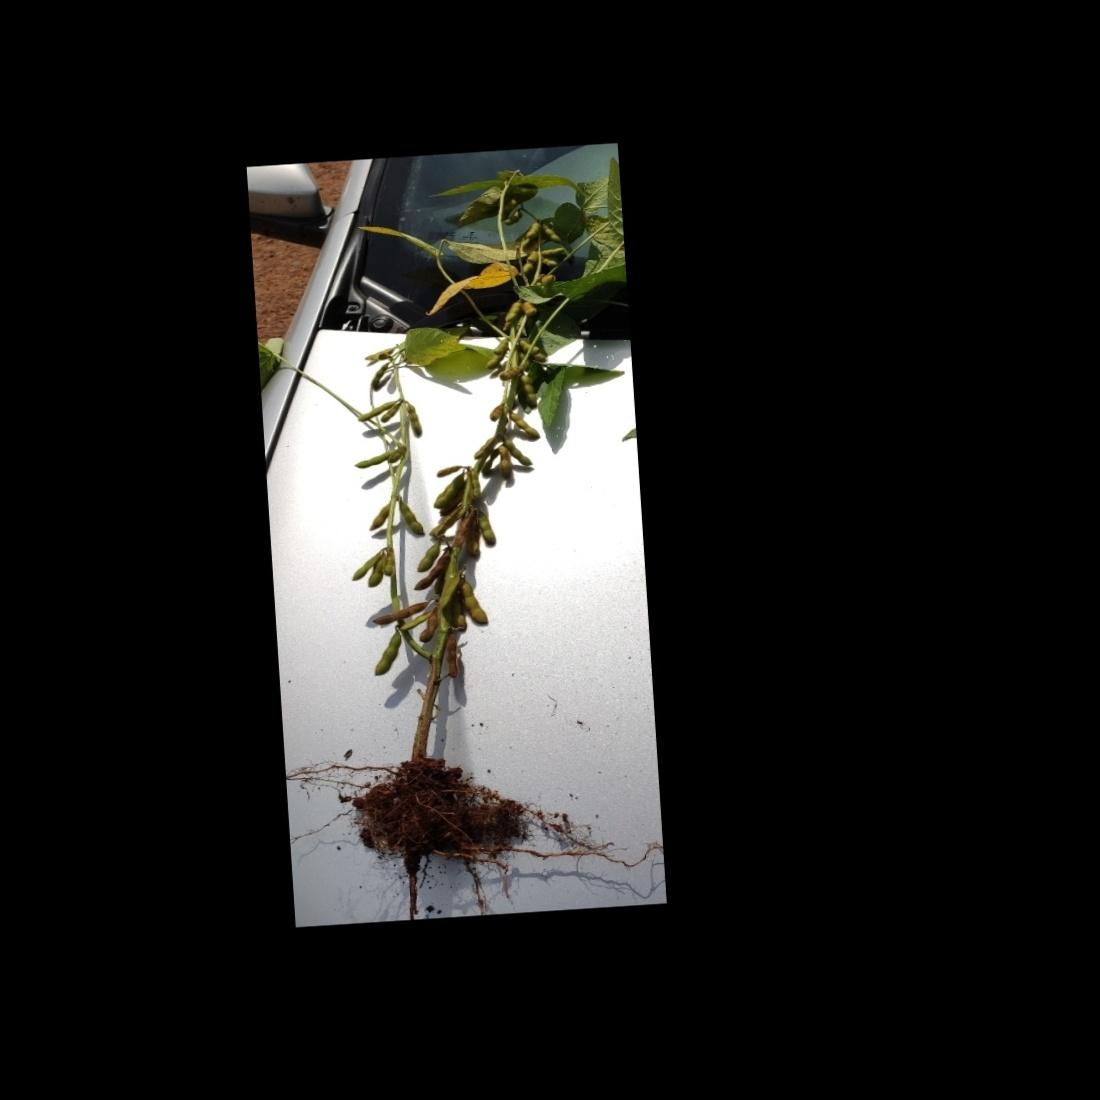pod: (362, 596, 435, 630), (368, 624, 404, 679), (345, 545, 390, 586), (458, 575, 490, 634), (408, 533, 448, 575), (392, 494, 426, 541), (508, 404, 544, 444), (473, 505, 502, 556), (440, 633, 467, 683), (352, 397, 402, 424), (394, 610, 446, 635), (502, 438, 535, 471), (350, 449, 395, 472), (403, 397, 424, 442), (488, 364, 527, 384), (496, 441, 515, 482), (501, 295, 526, 323)
soy: (245, 154, 659, 893)
